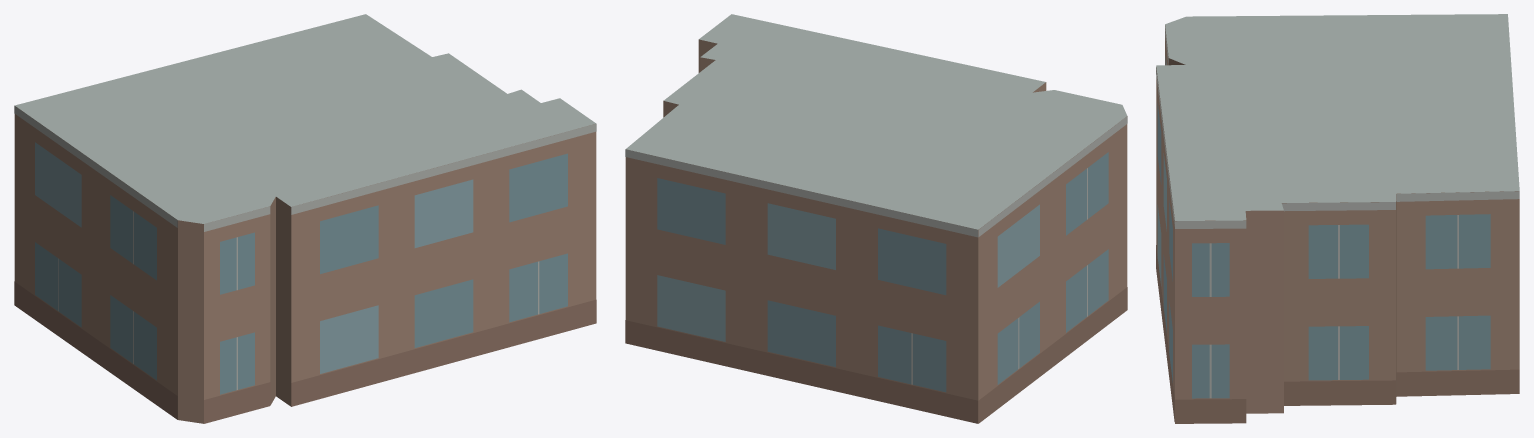
Rendered from survey-upis-32497111.glb.
3 views of the same model, side by side, from view 1: azimuth 30°, elevation 25°; view 2: azimuth 150°, elevation 25°; view 3: azimuth 270°, elevation 25° (orthographic). The views are drawn at different scales.
Visible parts, largest first — view 1: survey-upis-32497111.tmp; view 2: survey-upis-32497111.tmp; view 3: survey-upis-32497111.tmp.
Part boxes in pixels (x1,y1,x2,y2): survey-upis-32497111.tmp: (14,14,596,423); survey-upis-32497111.tmp: (625,14,1127,423); survey-upis-32497111.tmp: (1156,14,1519,423).
Size of the model in its own units: 13.36 by 6.1 by 9.92.
